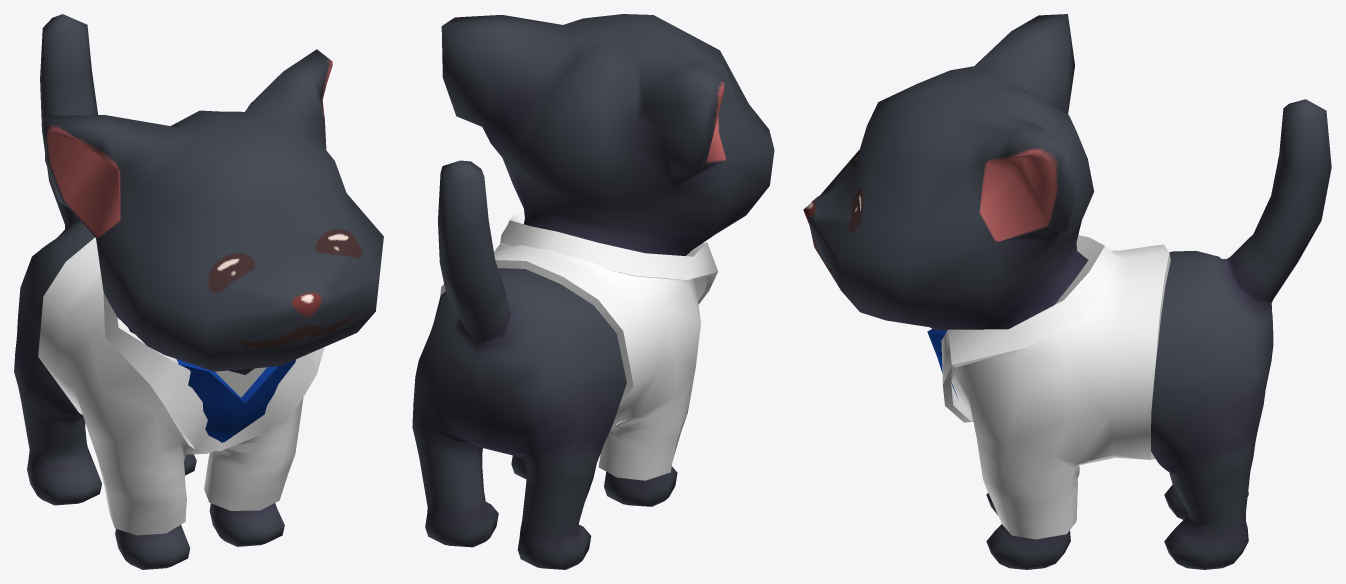
Rendered from Doctor Cat03.fbx.
3 views of the same model, side by side, from view 1: azimuth 30°, elevation 25°; view 2: azimuth 150°, elevation 25°; view 3: azimuth 270°, elevation 25° (orthographic). The views are drawn at different scales.
Visible parts, largest first — view 1: Cat_Base002, Doctor_Cat_Scrubs; view 2: Cat_Base002, Doctor_Cat_Scrubs; view 3: Cat_Base002, Doctor_Cat_Scrubs.
Boxes of the visible parts, x1=… form: Cat_Base002: x1=14, y1=14, x2=383, y2=569; Doctor_Cat_Scrubs: x1=38, y1=237, x2=324, y2=535; Cat_Base002: x1=412, y1=14, x2=774, y2=569; Doctor_Cat_Scrubs: x1=440, y1=211, x2=717, y2=480; Cat_Base002: x1=803, y1=14, x2=1331, y2=569; Doctor_Cat_Scrubs: x1=927, y1=235, x2=1170, y2=539.
Size of the model in its own units: 1.75 by 2.83 by 2.68.
Materials: 3 (1 with a texture image).
